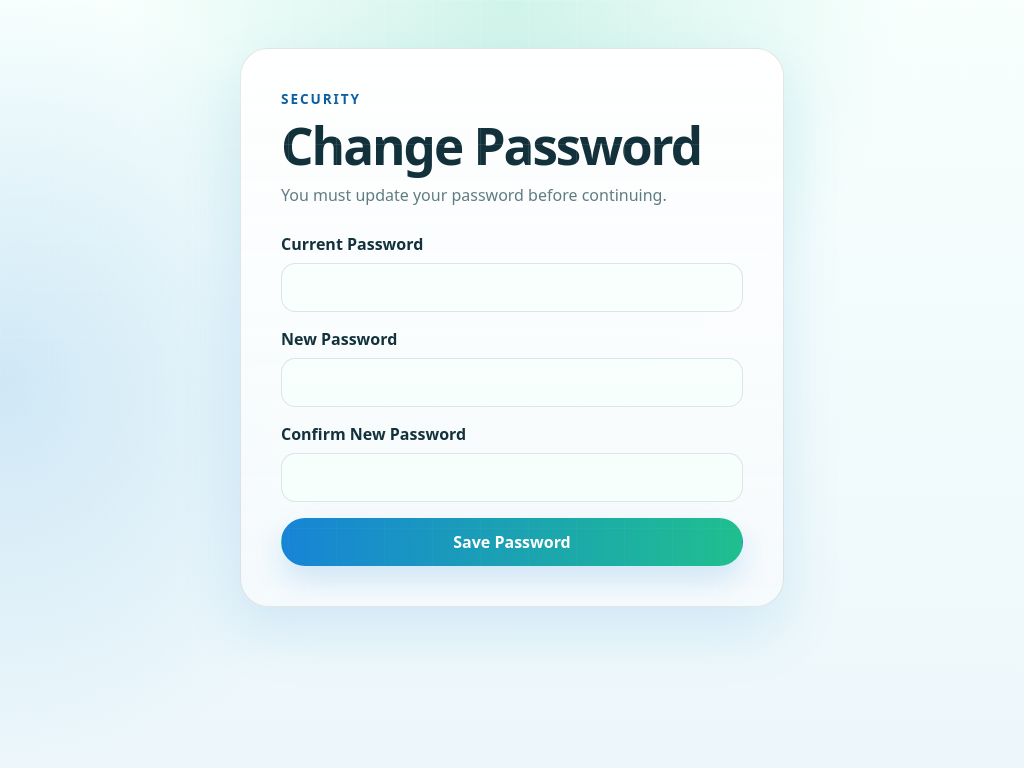
Scenario: ChangePasswordPage › renders inline validation errors returned by the backend
This screenshot has width=1024, height=768.
Expected: the heading "Change Password" is shown, [281,120,743,170]
In the password field labelled "Current Password": (512, 288) [281,263,743,312], type "bad-pass"
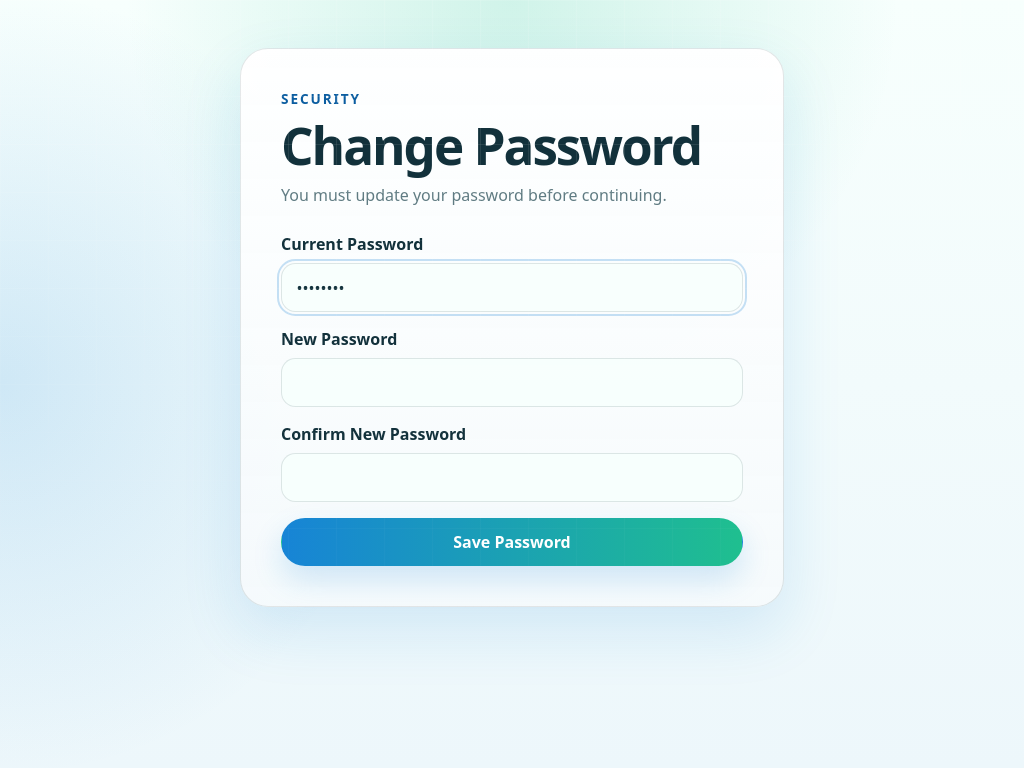
In the password field labelled "New Password": (512, 383) [281,358,743,407], type "EvenStronger123!"
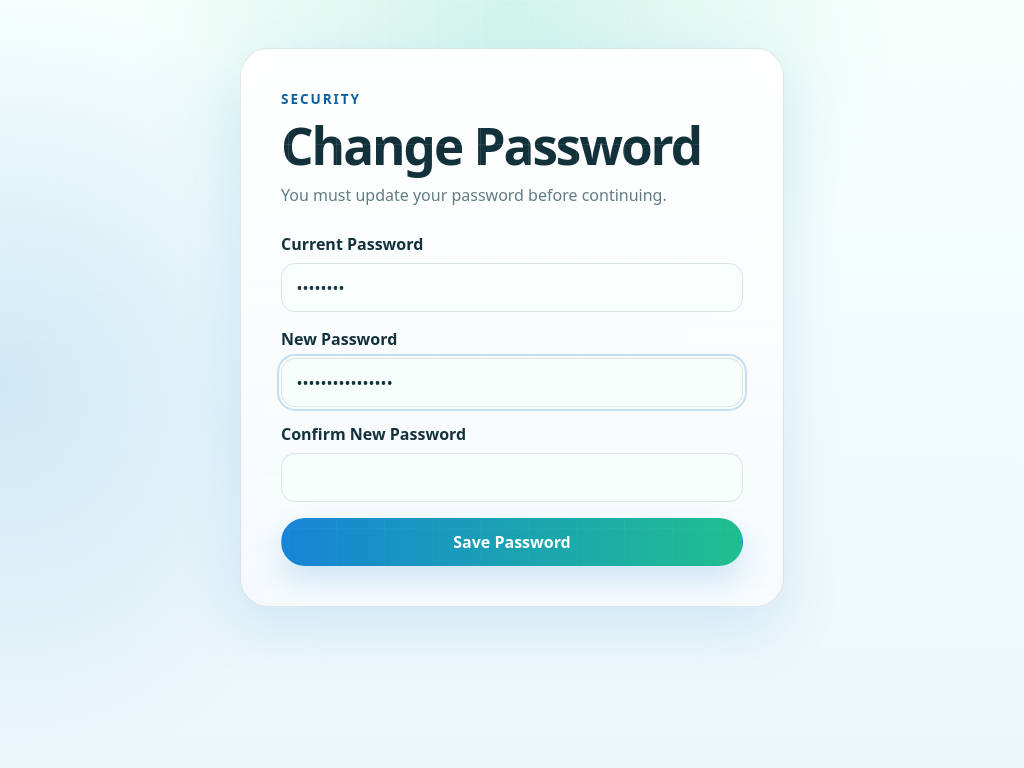
In the password field labelled "Confirm New Password": (512, 478) [281,453,743,502], type "EvenStronger123!"
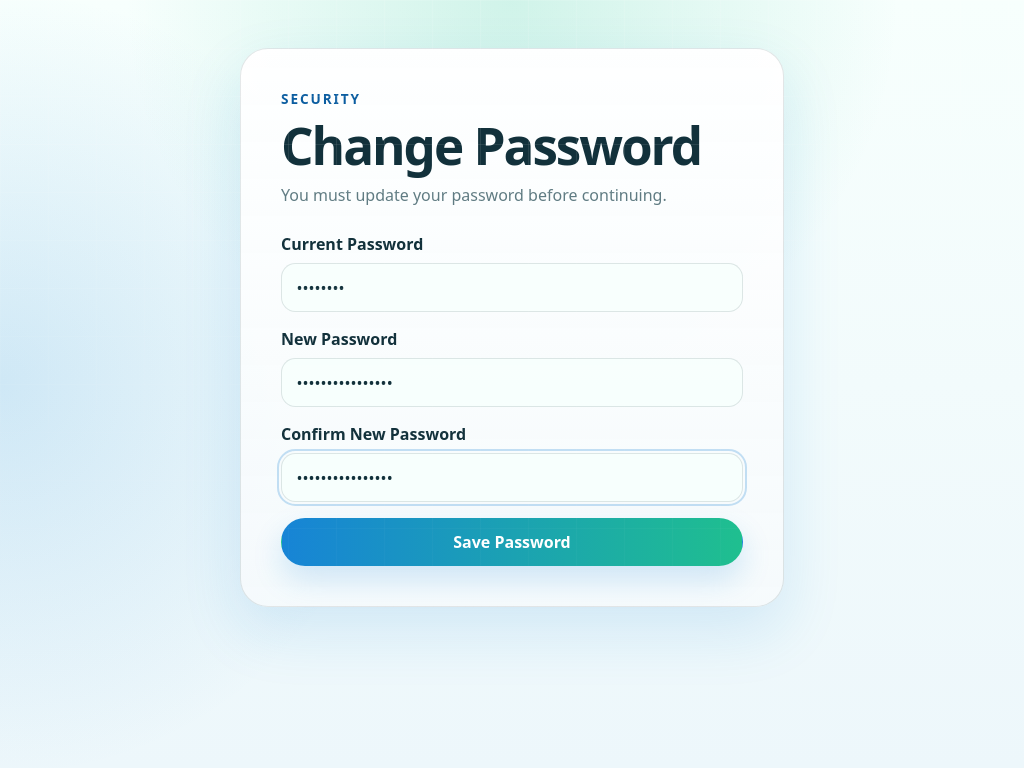
Click the button "Save Password": click(512, 542) [281,518,743,566]
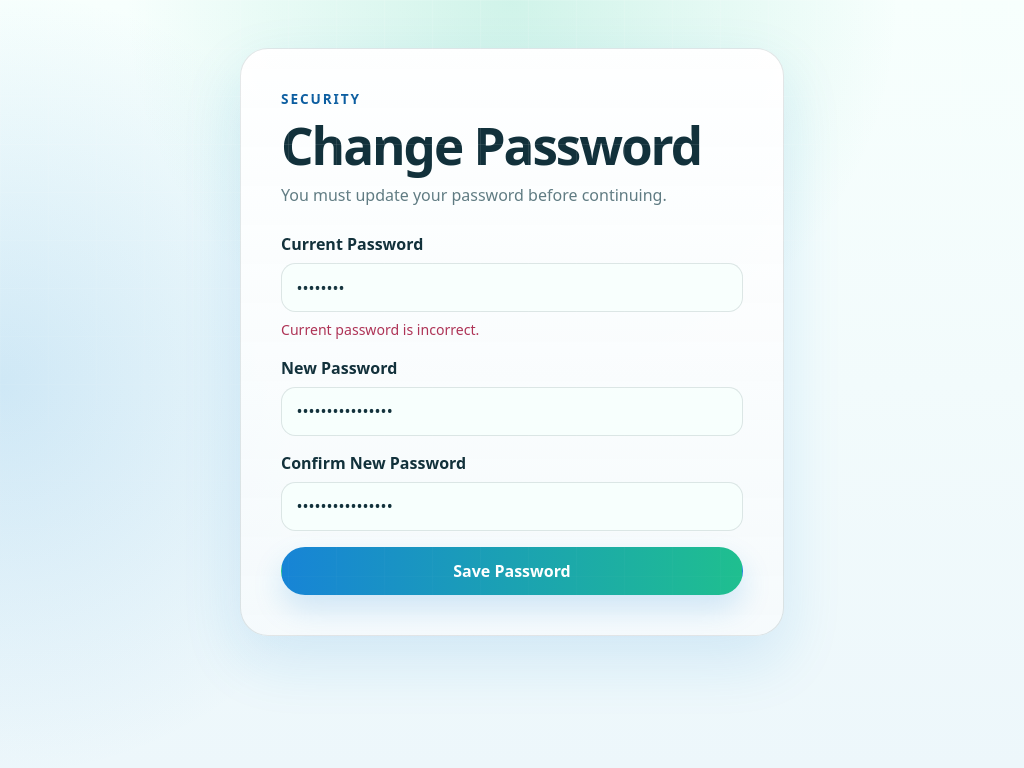
Result: the text "Current password is incorrect." is shown at [281,320,479,339]
